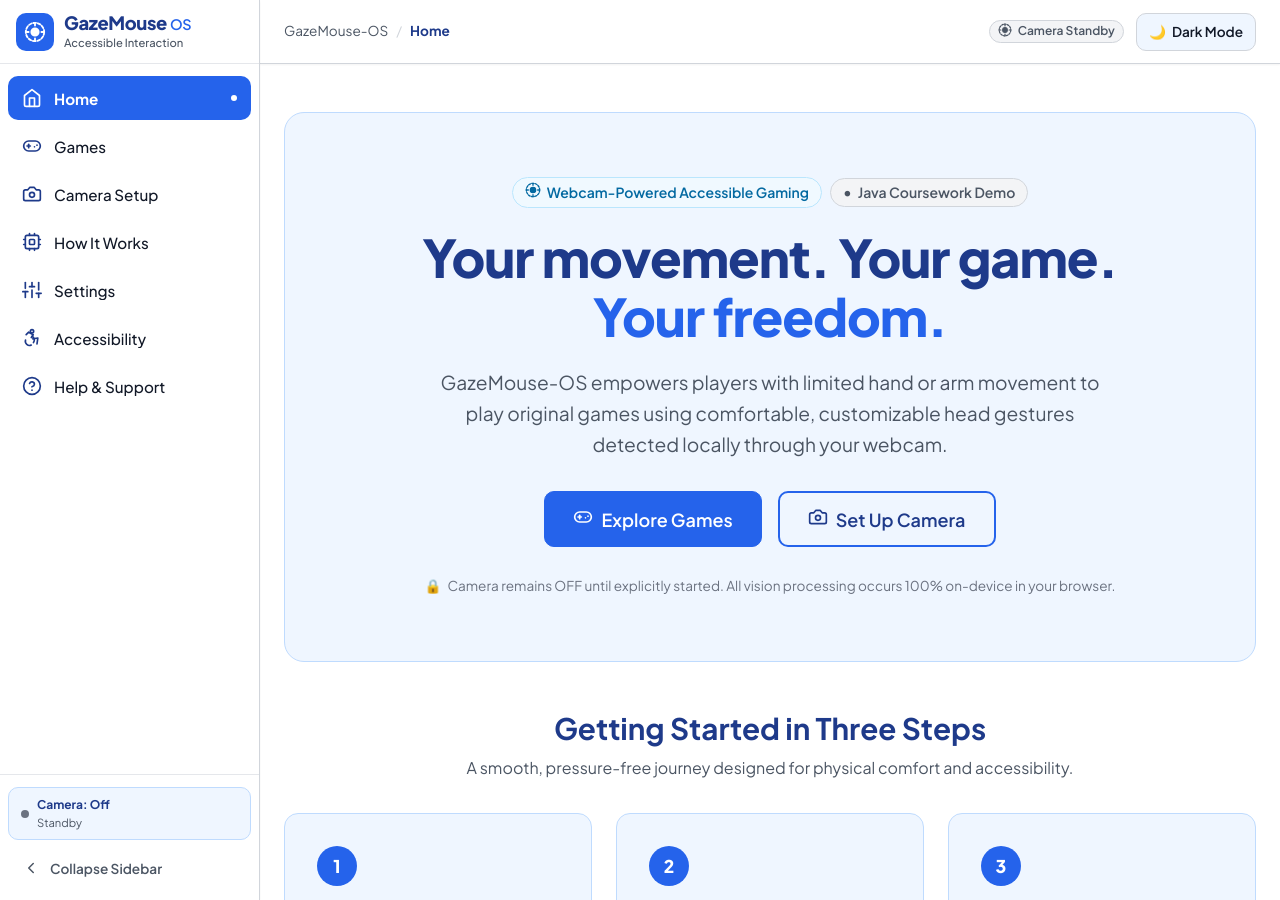
Test case: Navigation and Page Hierarchy › navigates to Settings and displays working sliders
Click the button "Settings". click: click(130, 290)
box: [8, 268, 251, 312]
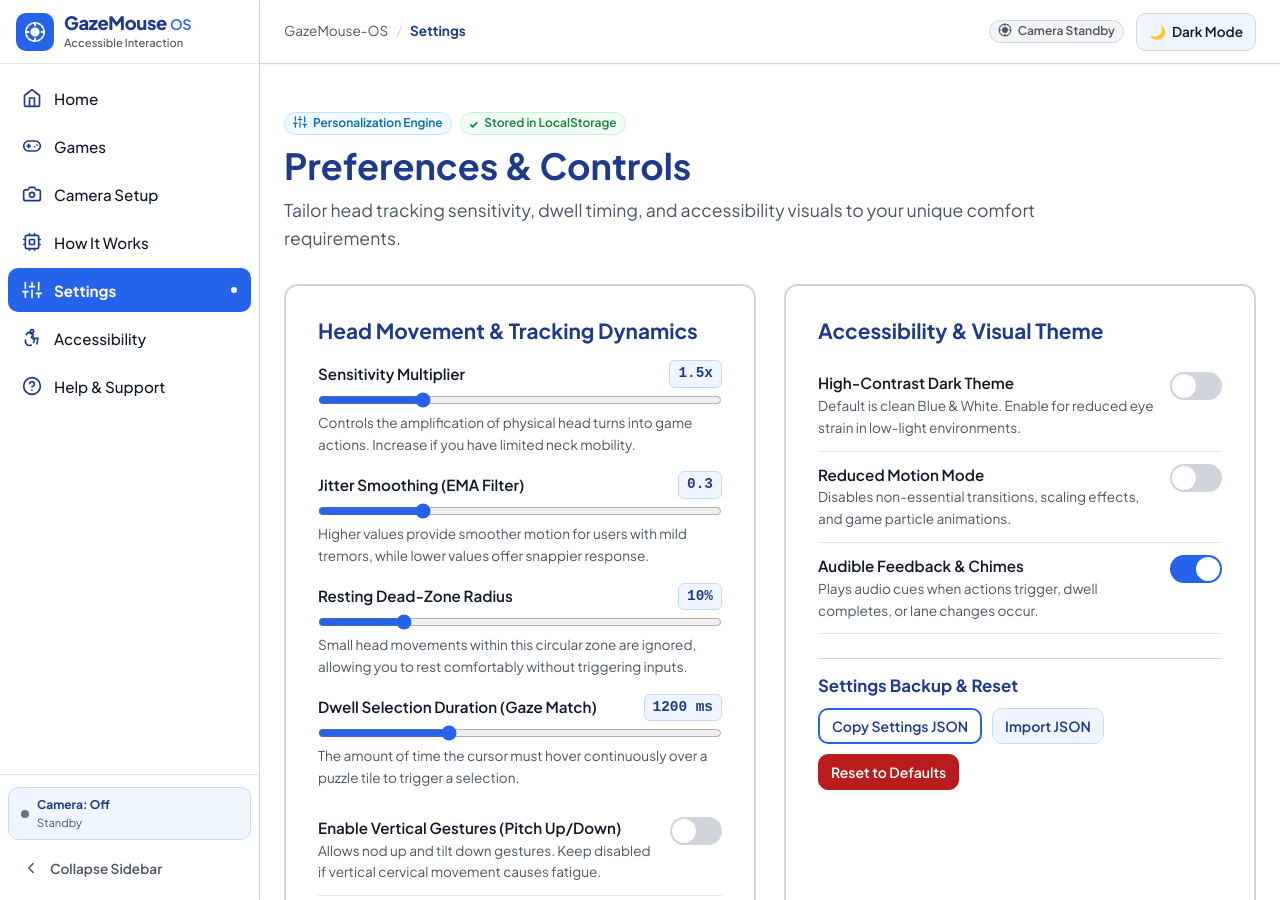
Expected: the heading "Preferences & Controls" is shown, [284, 143, 691, 188]
Expected: the slider labelled "Sensitivity Multiplier" is shown, [318, 396, 722, 404]
Expected: the slider labelled "Jitter Smoothing (EMA Filter)" is shown, [318, 507, 722, 515]
